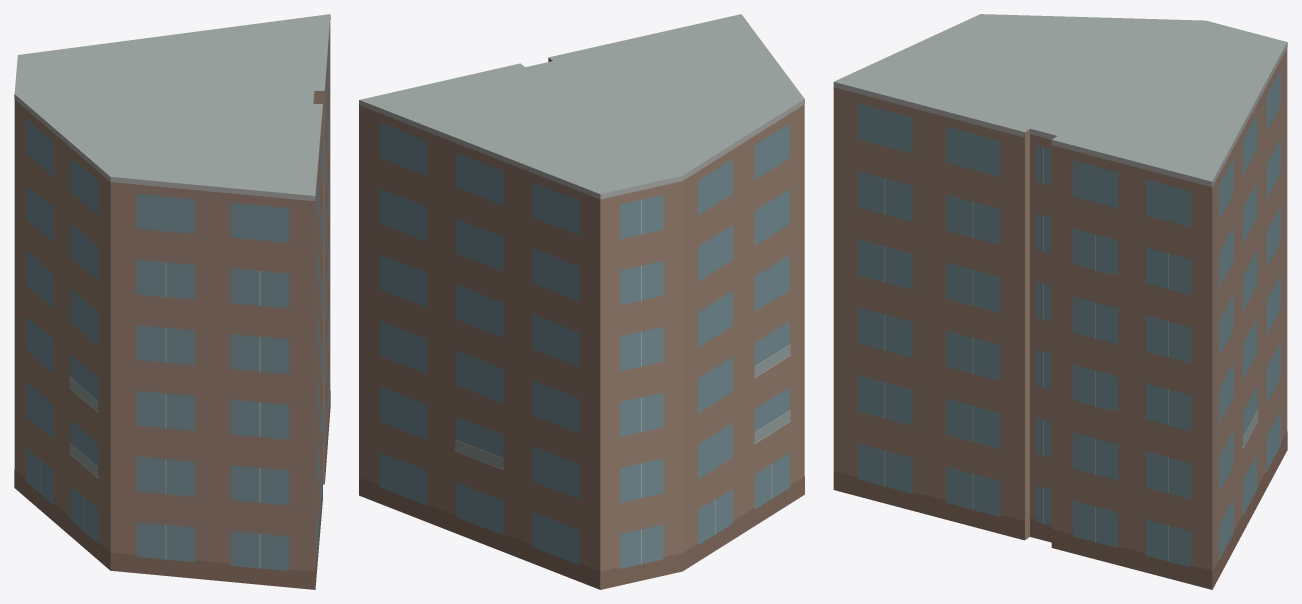
File: survey-upis-32592843.glb
The picture shows the model from 3 angles, left to right: view 1: azimuth 30°, elevation 25°; view 2: azimuth 150°, elevation 25°; view 3: azimuth 270°, elevation 25°; orthographic projection. The views are drawn at different scales.
Visible parts, largest first — view 1: survey-upis-32592843.tmp; view 2: survey-upis-32592843.tmp; view 3: survey-upis-32592843.tmp.
Boxes of the visible parts, left/top/right/bottom form: survey-upis-32592843.tmp: left=14, top=14, right=330, bottom=589; survey-upis-32592843.tmp: left=359, top=14, right=804, bottom=589; survey-upis-32592843.tmp: left=833, top=14, right=1287, bottom=589.
Bounding box in the file's own units: 16.14 × 18.3 × 18.45.
